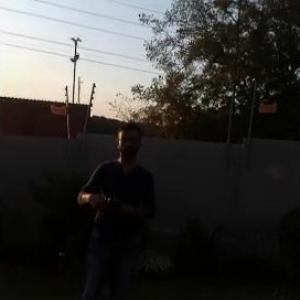follow: (72, 112, 163, 299)
